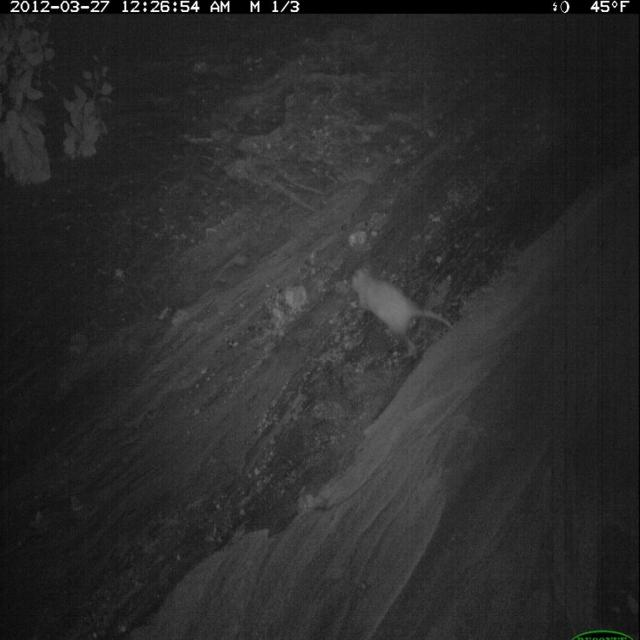opossum: (348, 265, 459, 362)
